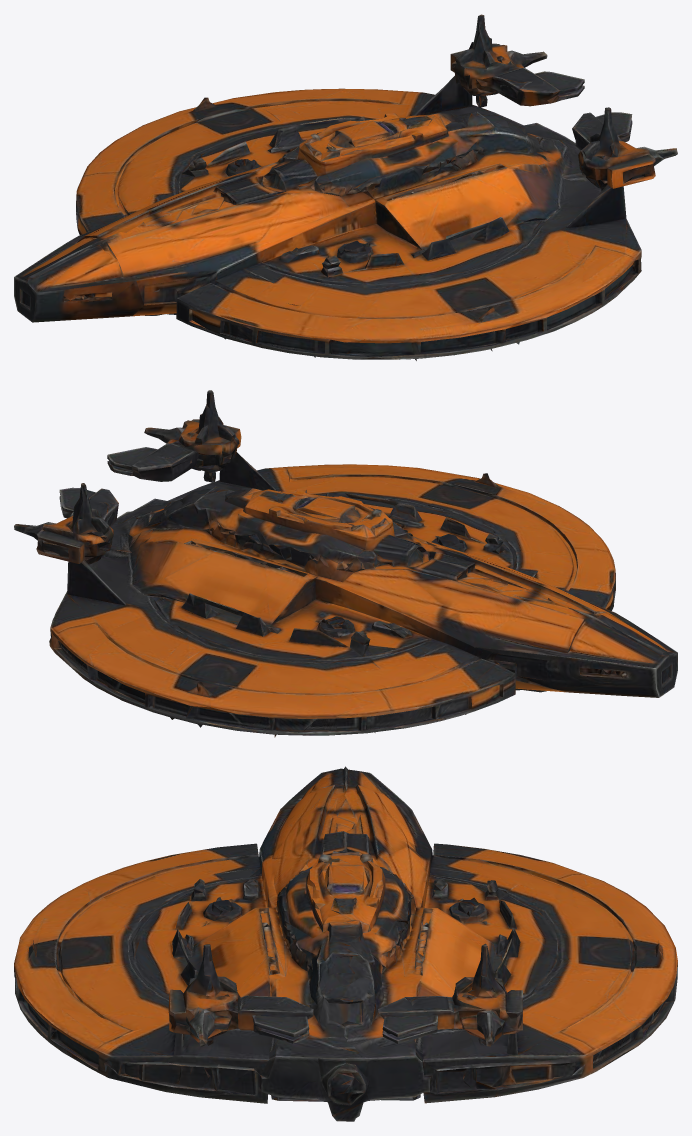
File: enemy-saturn-capital.glb
3 renders of one model, top to bottom at view 1: azimuth 30°, elevation 25°; view 2: azimuth 150°, elevation 25°; view 3: azimuth 270°, elevation 25°, orthographic. The views are drawn at different scales.
Bounding box in the file's own units: 1.9 × 0.4845 × 1.7.
1 material, 1 textured.
